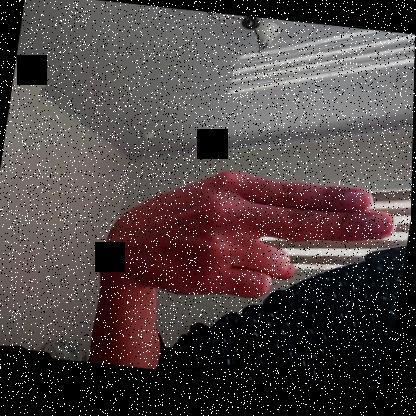H: (93, 157, 403, 321)
